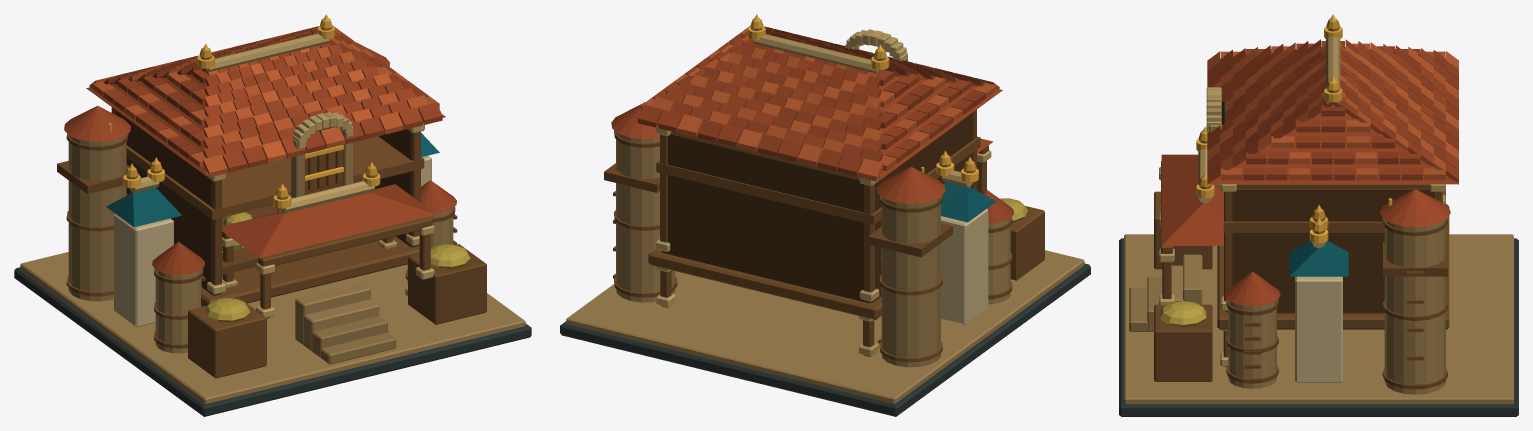
3 renders of one model, left to right at view 1: azimuth 30°, elevation 25°; view 2: azimuth 150°, elevation 25°; view 3: azimuth 270°, elevation 25°, orthographic. The views are drawn at different scales.
Parts seen in each view (by area): view 1: granary_10_structure, granary_10_metal; view 2: granary_10_structure, granary_10_metal; view 3: granary_10_structure, granary_10_metal.
Boxes of the visible parts, x1,y1,x2,y2 form: granary_10_structure: (14,18,531,416); granary_10_metal: (108,14,380,208); granary_10_structure: (560,18,1090,416); granary_10_metal: (747,14,978,182); granary_10_structure: (1119,18,1518,416); granary_10_metal: (1196,14,1392,243).
Size of the model in its own units: 5.6 by 4.46 by 5.6.
